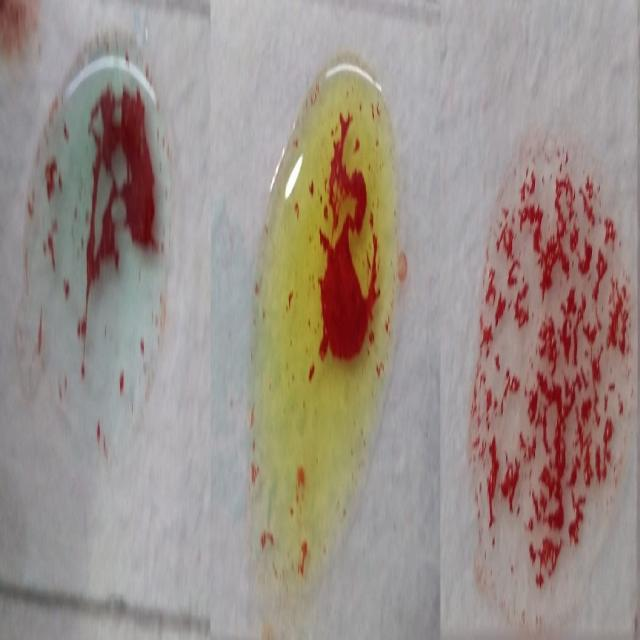A: (24, 37, 168, 459)
B: (254, 59, 392, 582)
D: (477, 133, 629, 612)
